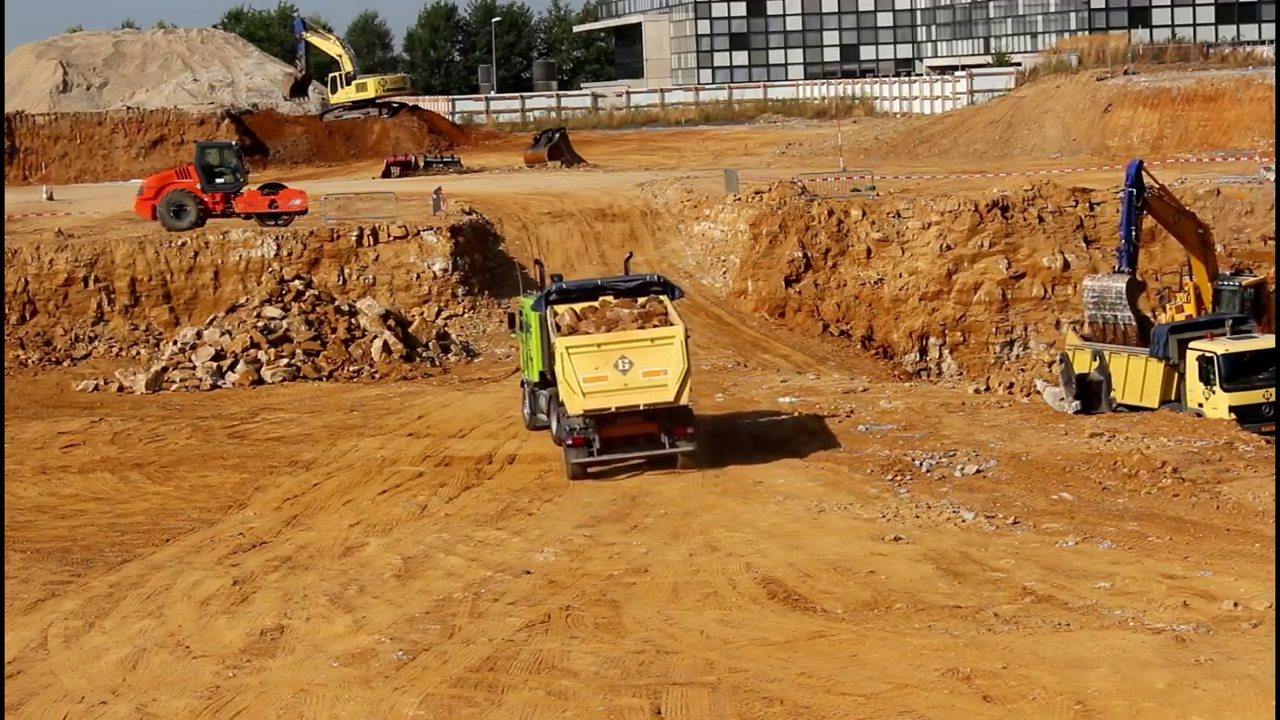compactor: (134, 138, 312, 233)
excavator: (1079, 155, 1280, 373), (285, 13, 413, 124)
truck: (506, 250, 706, 482), (1060, 313, 1280, 455)
